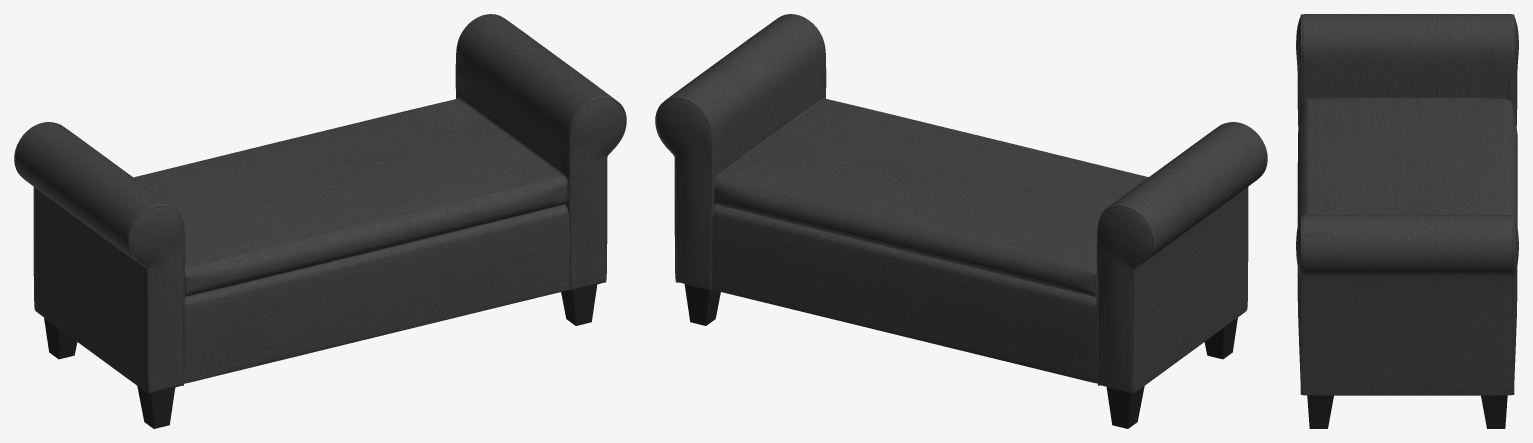
File: B07MJJWYNV.glb
3 renders of one model, left to right at view 1: azimuth 30°, elevation 25°; view 2: azimuth 150°, elevation 25°; view 3: azimuth 270°, elevation 25°, orthographic. The views are drawn at different scales.
Visible parts, largest first — view 1: RootNode; view 2: RootNode; view 3: RootNode.
Boxes of the visible parts, x1=… form: RootNode: x1=14, y1=14, x2=626, y2=428; RootNode: x1=655, y1=14, x2=1267, y2=428; RootNode: x1=1296, y1=14, x2=1518, y2=428.
Bounding box in the file's own units: 1.26 × 0.547 × 0.5213.
1 material, 1 textured.
